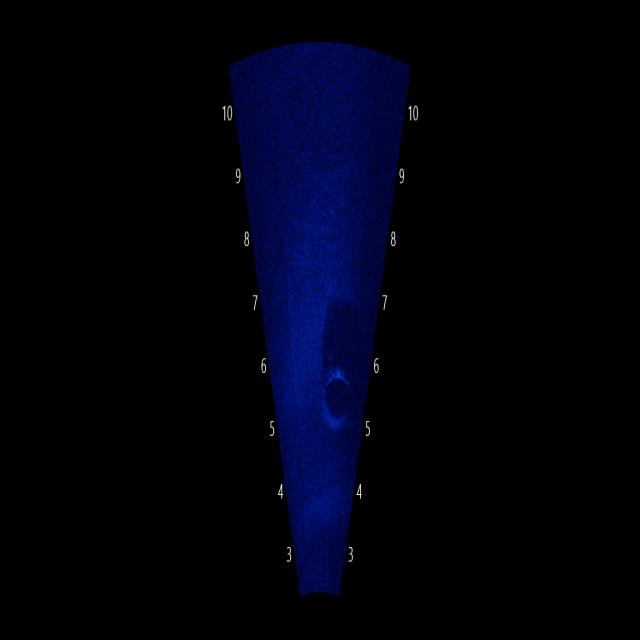circle: (311, 344, 369, 449)
